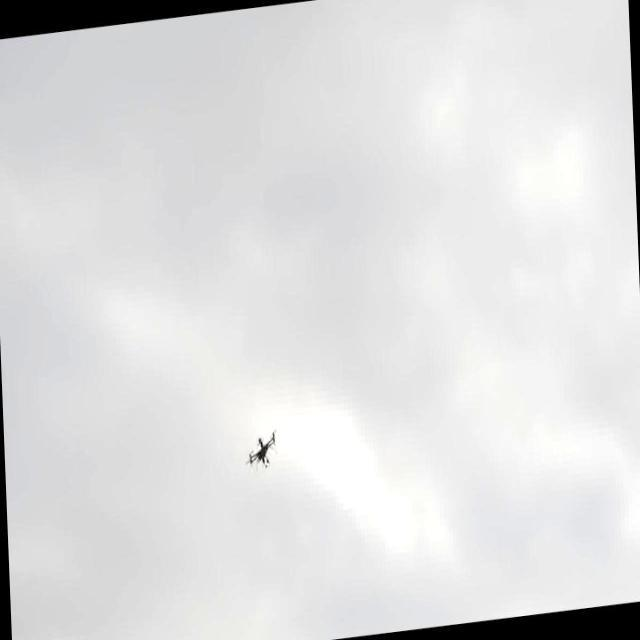drone: (245, 424, 279, 469)
